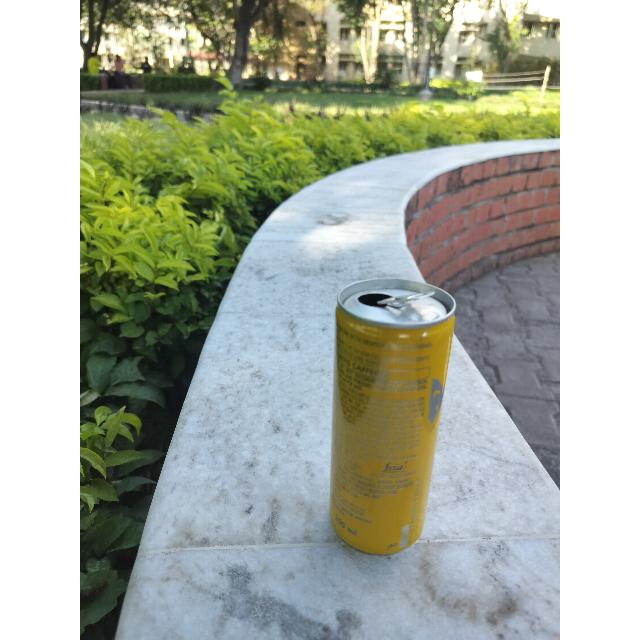Redbull Yellow Edition: (331, 291, 447, 559)
